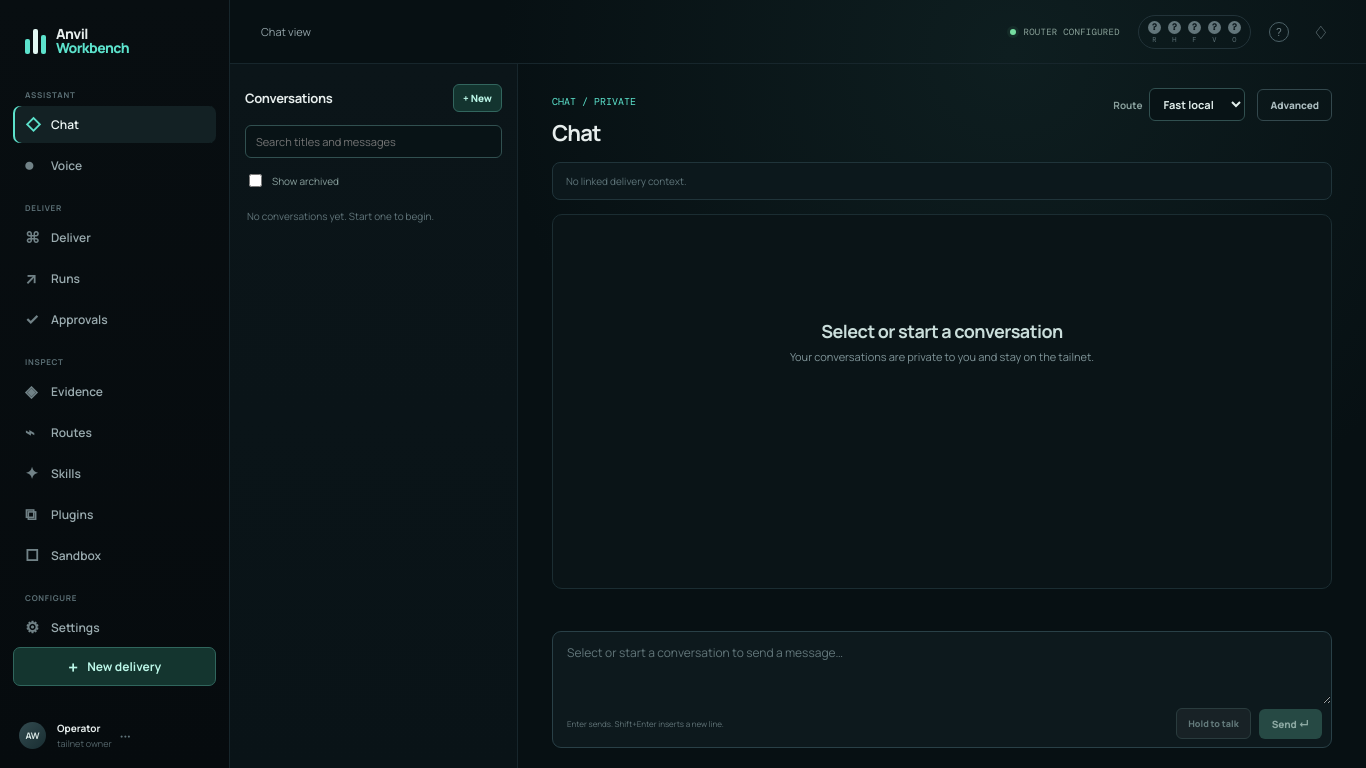
Test: Criterion 1 — a new and a returning actor complete the wired chat loop › new actor: streamed deltas render progressively through the real reducer
Expected: the text "No conversations yet. Start one to begin." is shown, [247,209,434,223]
Click the button with aria-label "Start a new conversation" at x=478, y=98, box [453,84,502,112]
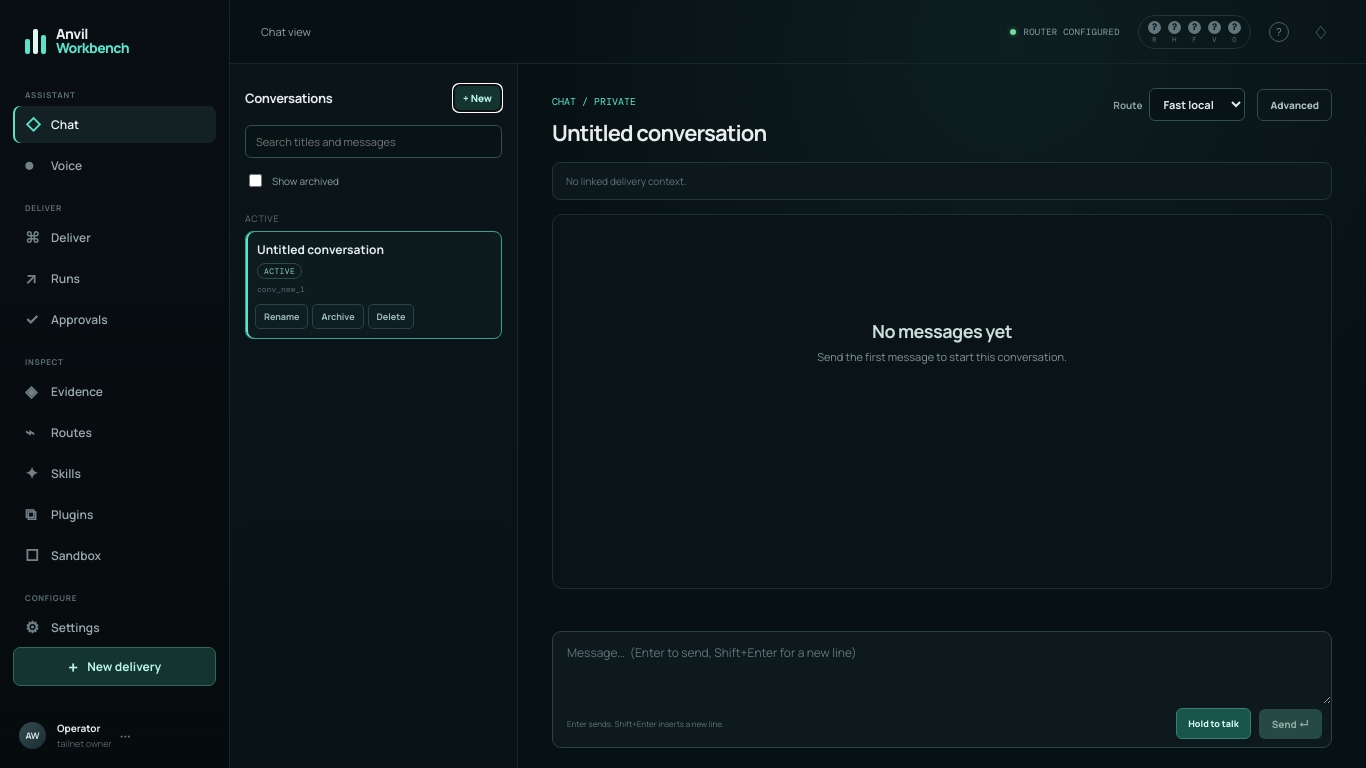
Result: the element named "Empty conversation" is shown at [817,318,1067,364]
Type "hello there" into the text box named "Message composer" at x=942, y=668, box [553,632,1331,704]
Then press Enter
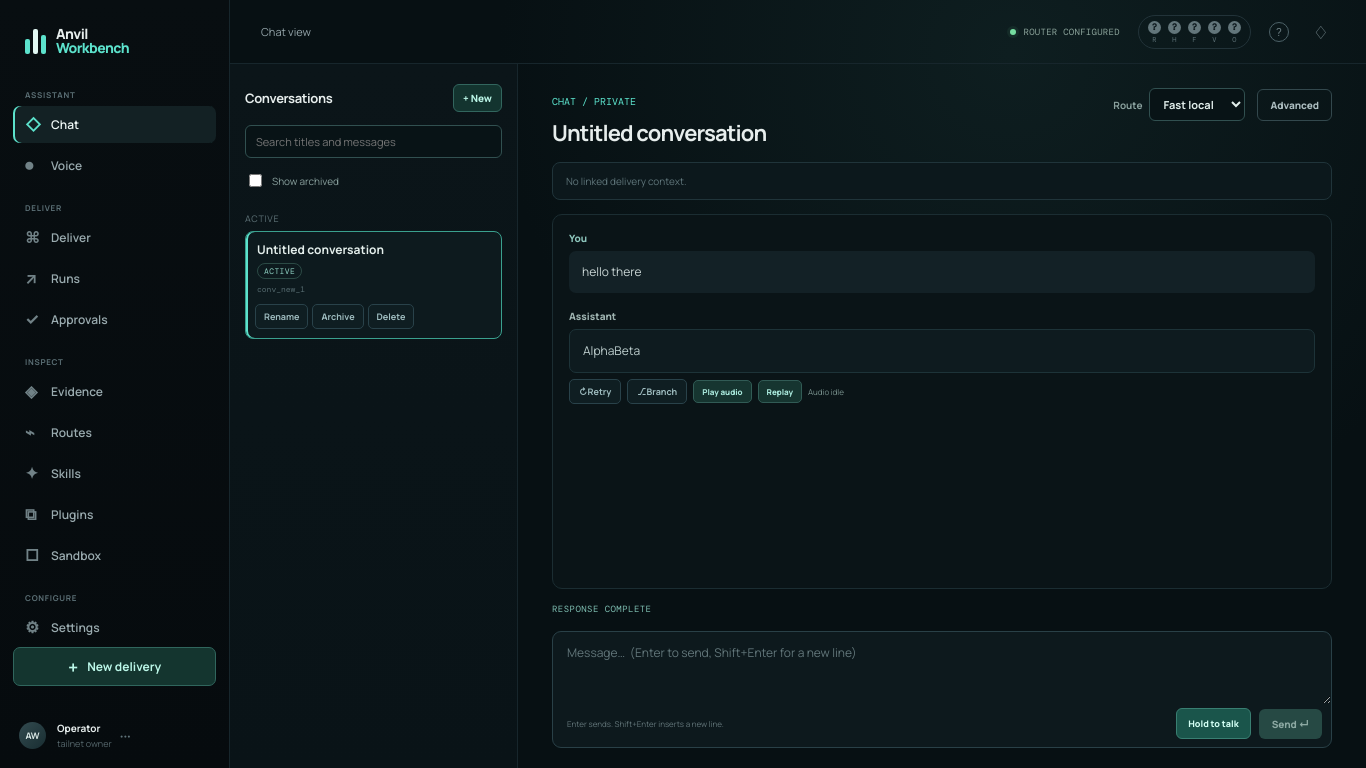
Result: the text "Alpha" is shown at [583,342,640,359]
Result: the number of lists named "Transcript" is 1 at [569,231,1315,404]
Result: the text "AlphaBeta" is shown at [569,329,1315,373]
